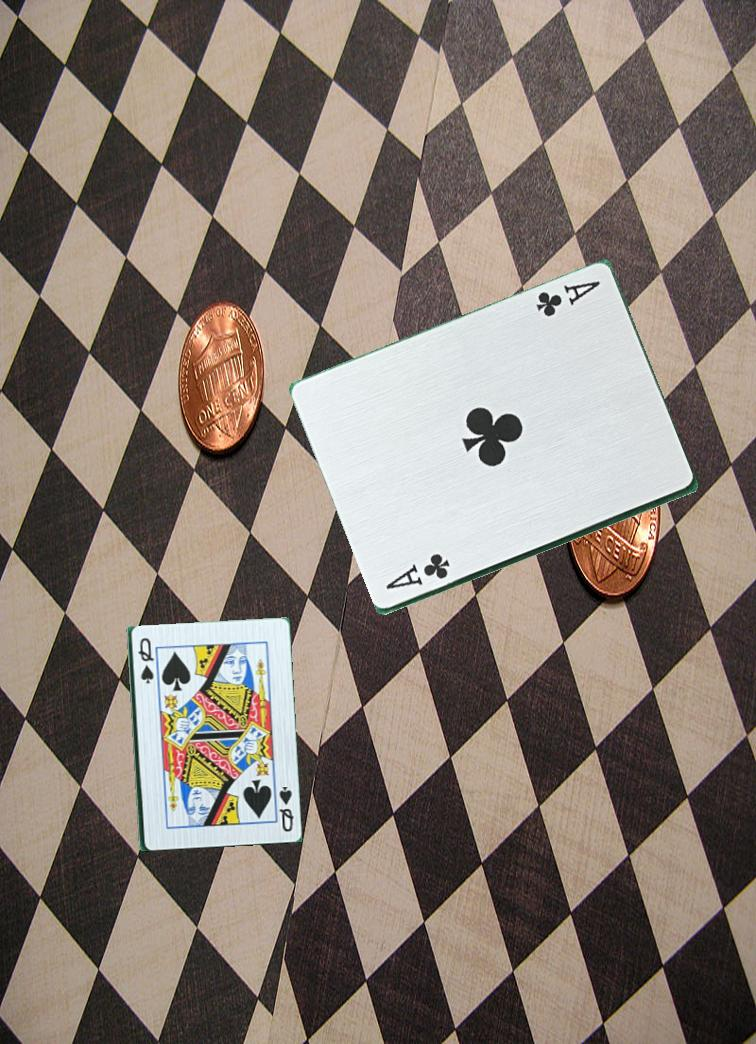ac: (532, 278, 603, 321), (382, 552, 453, 593)
qs: (275, 782, 296, 835), (135, 634, 155, 686)
